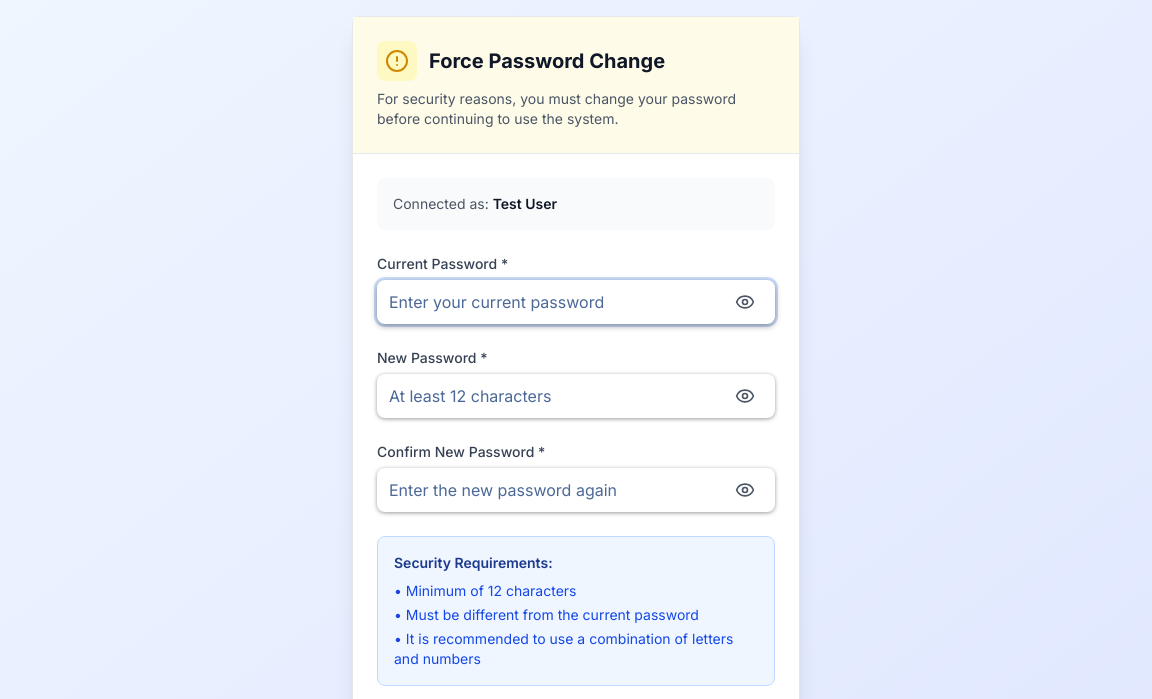
Test case: ForcePasswordChangePage › Rate limiting error messages in Portuguese › should display wait time message in Portuguese
This screenshot has width=1152, height=699.
Type "WrongPassword123" into the password field with placeholder "Enter your current password" at [576, 302], box [377,280,775,324]
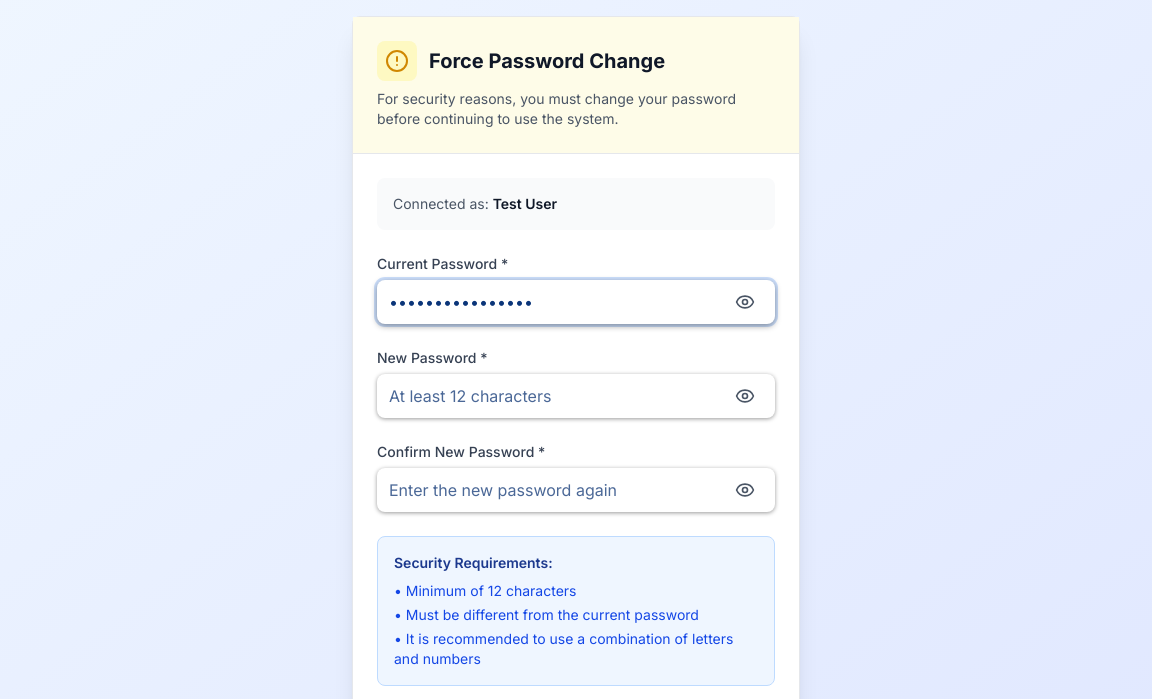
Type "NewValidPassword123" into the password field with placeholder "At least 12 characters" at [576, 396], box [377,374,775,418]
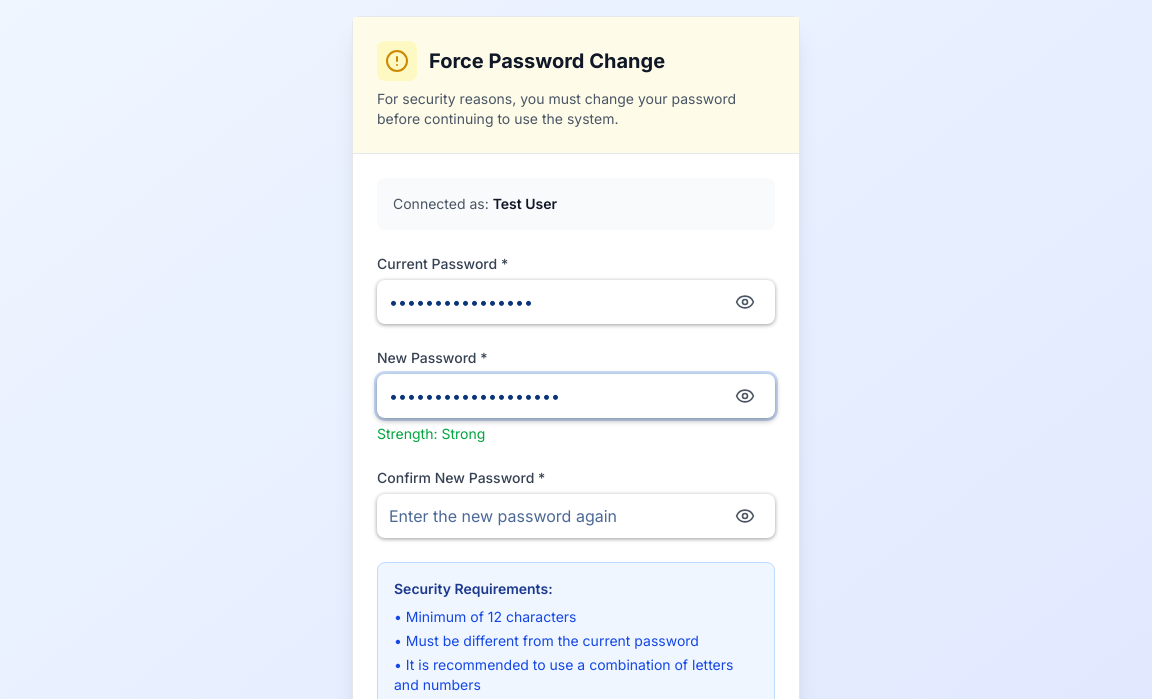
Type "NewValidPassword123" into the password field with placeholder "Enter the new password again" at [576, 516], box [377,494,775,538]
(page scrolled)
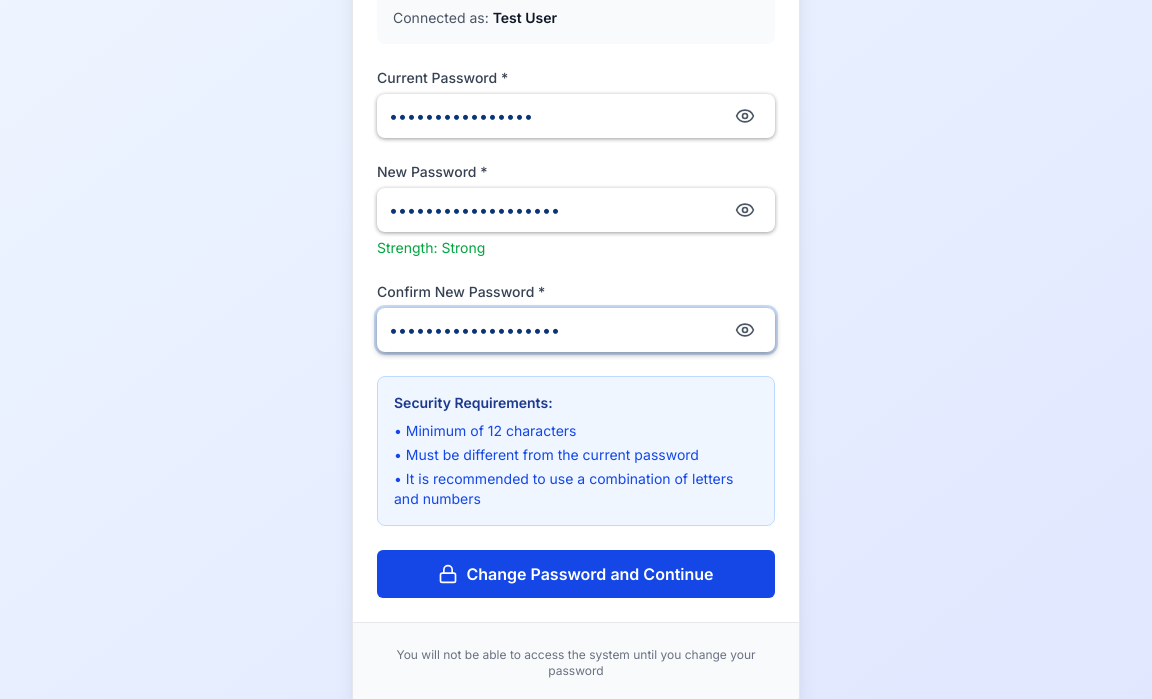
Click the button "Change Password and Continue" at [576, 574], box [377,550,775,598]
(page scrolled)
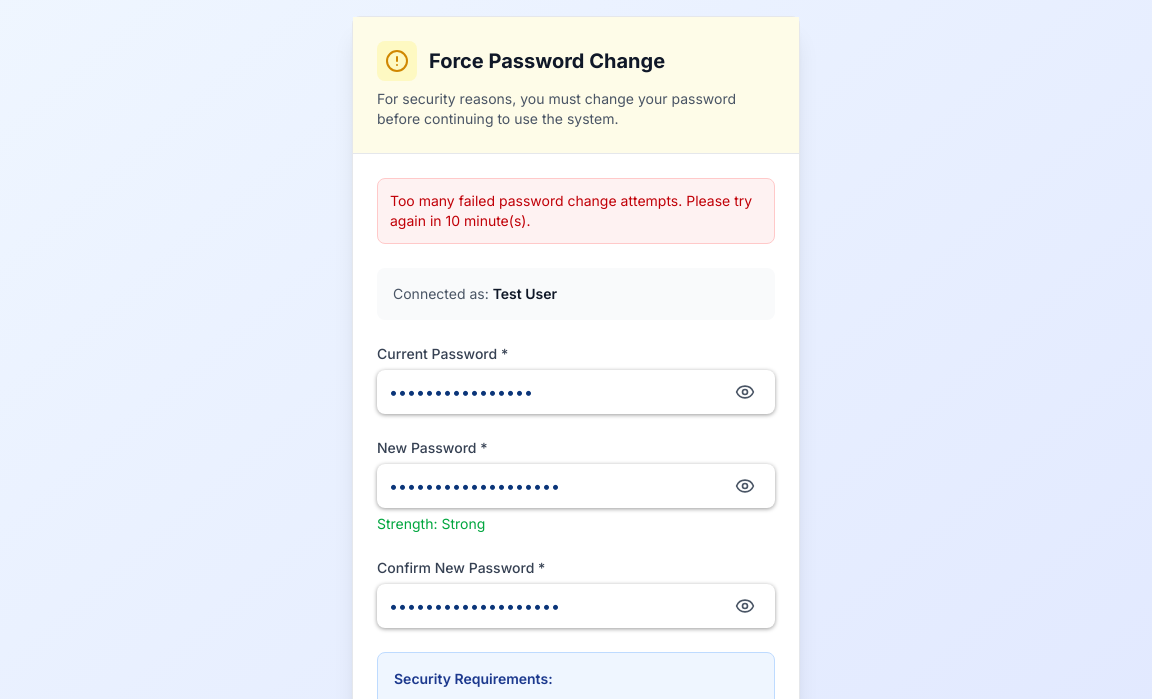
Now the text "Too many failed password change attempts. Please try again in 10 minute(s)." is shown, box [377,178,775,244]
